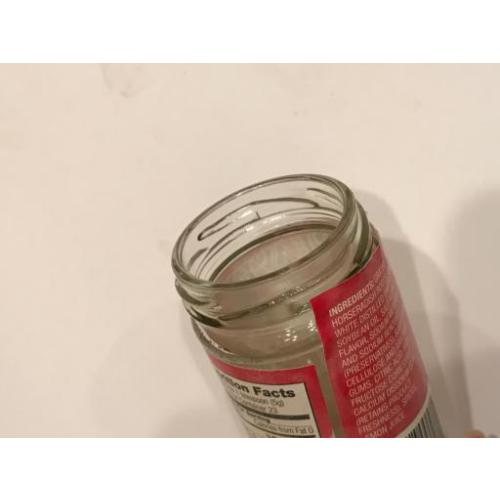glass: (173, 174, 444, 437)
